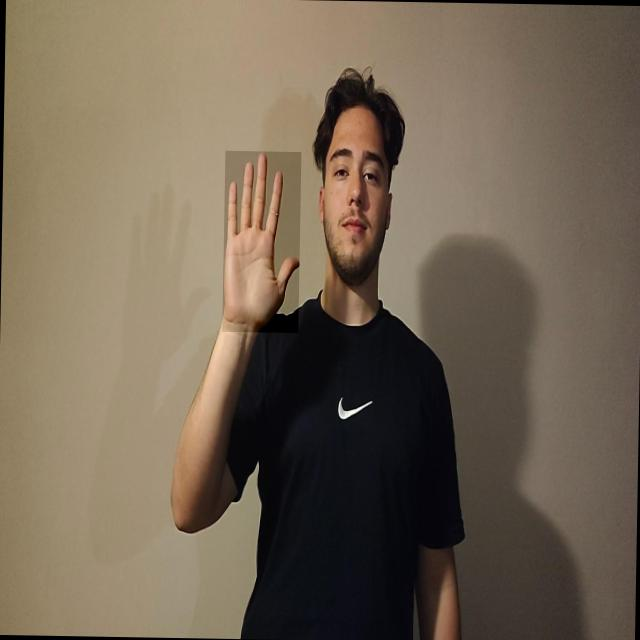hello: (222, 150, 301, 332)
